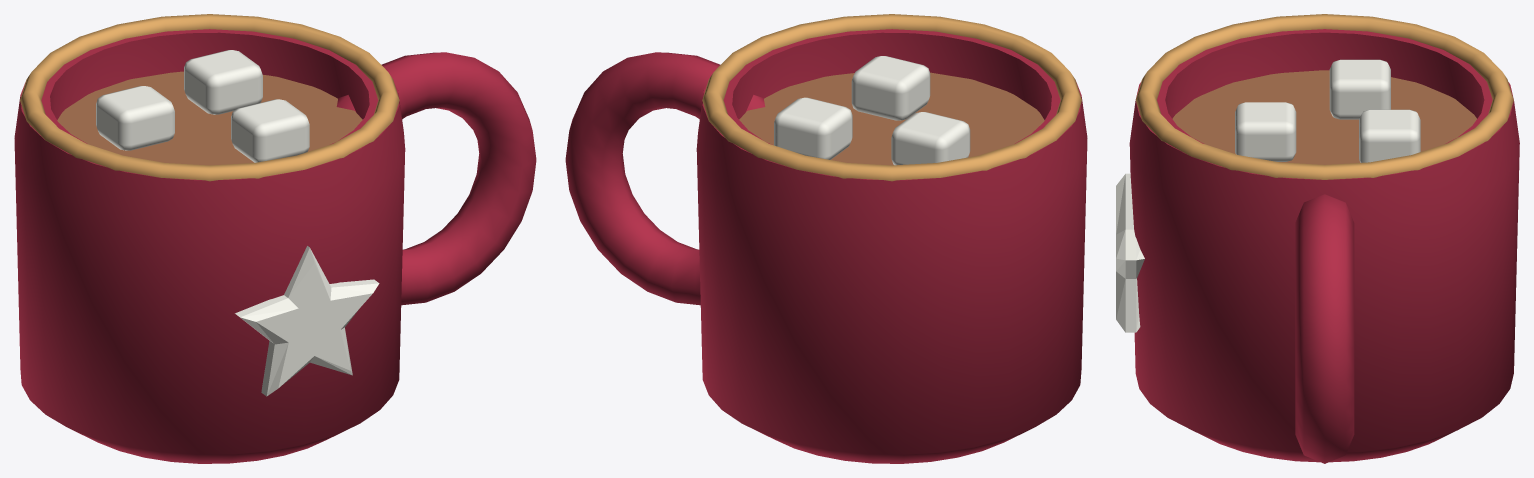
The model's file is storybook-christmas-market-marshmallow-cocoa-mug-3f3e76ae__19719.glb.
3 views of the same model, side by side, from view 1: azimuth 30°, elevation 25°; view 2: azimuth 150°, elevation 25°; view 3: azimuth 270°, elevation 25° (orthographic).
Visible parts, largest first — view 1: marshmallow-cocoa-mug; view 2: marshmallow-cocoa-mug; view 3: marshmallow-cocoa-mug.
Part boxes in pixels (x1,y1,x2,y2): marshmallow-cocoa-mug: [14, 14, 536, 463]; marshmallow-cocoa-mug: [565, 14, 1087, 463]; marshmallow-cocoa-mug: [1116, 14, 1519, 463].
Size of the model in its own units: 0.48 by 0.2878 by 0.3415.
